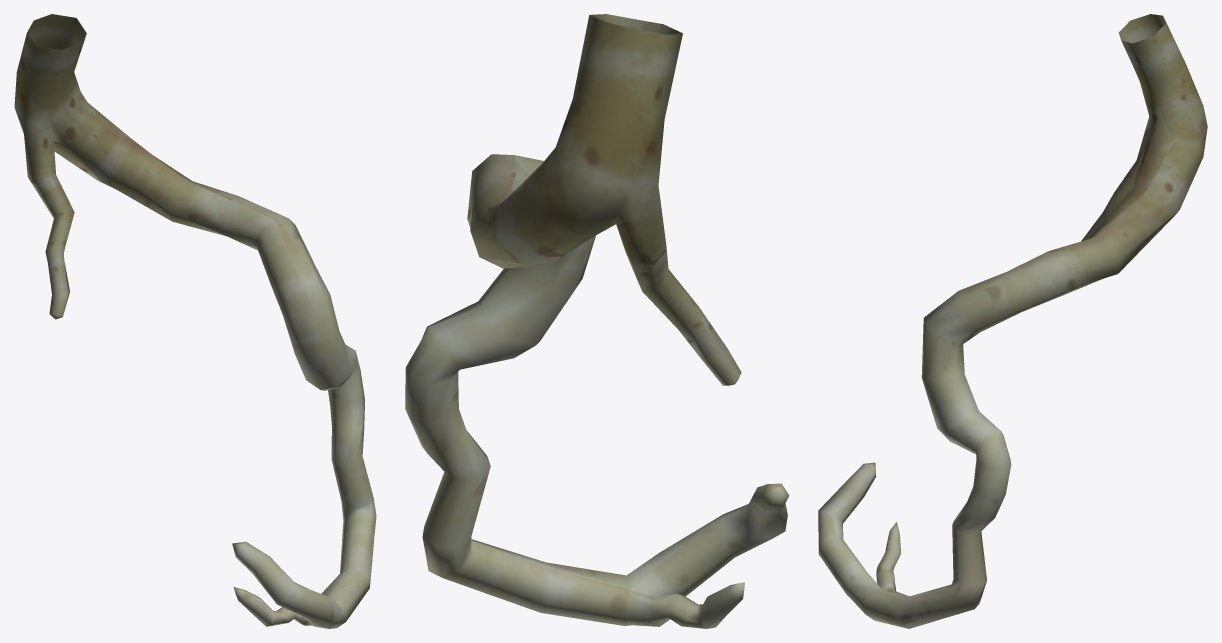
File: grassroots_c.fbx
3 views of the same model, side by side, from view 1: azimuth 30°, elevation 25°; view 2: azimuth 150°, elevation 25°; view 3: azimuth 270°, elevation 25° (orthographic). The views are drawn at different scales.
Visible parts, largest first — view 1: mudditch_01_grassroots_c; view 2: mudditch_01_grassroots_c; view 3: mudditch_01_grassroots_c.
Part boxes in pixels (bbox=[...]): mudditch_01_grassroots_c: bbox=[14, 14, 376, 628]; mudditch_01_grassroots_c: bbox=[405, 14, 789, 628]; mudditch_01_grassroots_c: bbox=[818, 14, 1207, 628].
Size of the model in its own units: 647 by 1252 by 833.
